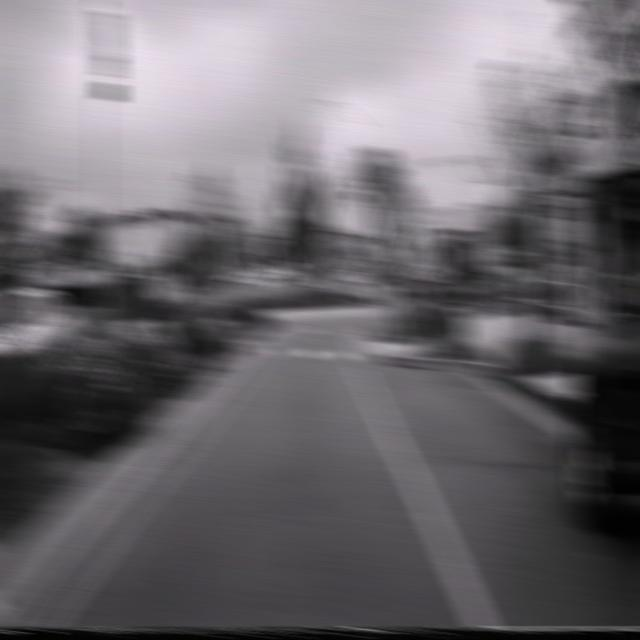pedestrianCrossing: (399, 208, 436, 263)
yield: (371, 229, 398, 260)
